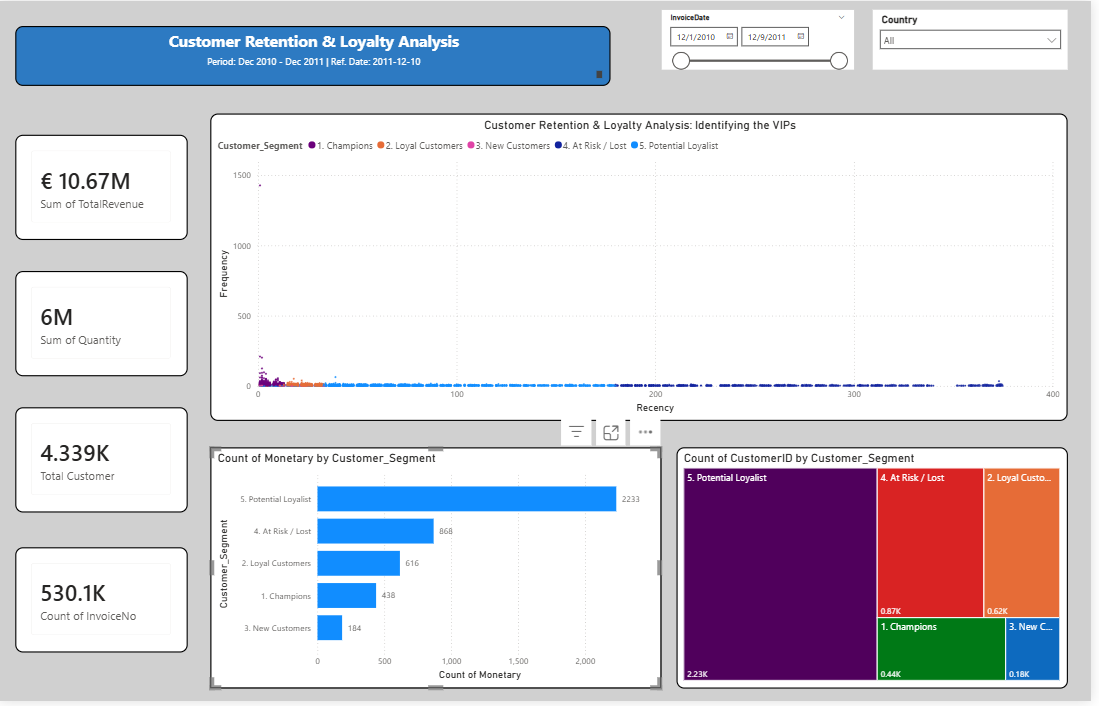

The page's visual inventory and layout, read from the dashboard file:
{"tool":"powerbi","page":{"name":"Page 1","canvas":[1560,1000],"ordinal":0},"visuals":[{"type":"treemap","fields":{"Group":["View_Marketing_RFM_Final.Customer_Segment"],"Values":["CountNonNull(View_Marketing_RFM_Final.CustomerID)"]},"box":[967.9,637.5,558.9,344.6],"z":0},{"type":"scatterChart","title":"Customer Retention & Loyalty Analysis: Identifying the VIPs","fields":{"X":["RFM_Scores.Recency"],"Size":["CountNonNull(RFM_Scores.Monetary)"],"Series":["View_Marketing_RFM_Final.Customer_Segment"],"Y":["RFM_Scores.Frequency"]},"box":[301.8,160.7,1225,439.3],"z":1},{"type":"clusteredBarChart","fields":{"Category":["View_Marketing_RFM_Final.Customer_Segment"],"Y":["CountNonNull(RFM_Scores.Monetary)"]},"box":[301.8,637.5,644.6,344.6],"z":2},{"type":"slicer","fields":{"Values":["Customer_Transaction_Clean.Country"]},"box":[1248.2,12.5,278.6,85.7],"z":3},{"type":"slicer","fields":{"Values":["Customer_Transaction_Clean.InvoiceDate"]},"box":[946.4,12.5,275,85.7],"z":4},{"type":"cardVisual","fields":{"Data":["Sum(Customer_Transaction_Clean.TotalRevenue)"]},"box":[23.2,191.1,246.4,150],"z":6},{"type":"cardVisual","fields":{"Data":["Sum(Customer_Transaction_Clean.Quantity)"]},"box":[23.2,385.7,246.4,150],"z":7},{"type":"cardVisual","fields":{"Data":["Count(Customer_Transaction_Clean.CustomerID)"]},"box":[23.2,580.4,246.4,150],"z":8},{"type":"textbox","title":"Customer Retention & Loyalty Analysis","box":[23.2,35.7,850,85.7],"z":9},{"type":"cardVisual","fields":{"Data":["CountNonNull(Customer_Transaction_Clean.InvoiceNo)"]},"box":[23.2,780.4,246.4,150],"z":10}]}

Visuals, with their boxes in screenshot pixels (x1, y1, x2, y2), scaled from the page's 1560x1000 canvas onto the 1099x706 screenshot:
treemap - View_Marketing_RFM_Final.Customer_Segment x CountNonNull(View_Marketing_RFM_Final.CustomerID): (682,450,1076,693)
"Customer Retention & Loyalty Analysis: Identifying the VIPs" scatterChart: (213,113,1076,424)
clusteredBarChart - View_Marketing_RFM_Final.Customer_Segment x CountNonNull(RFM_Scores.Monetary): (213,450,667,693)
slicer - Customer_Transaction_Clean.Country: (879,9,1076,69)
slicer - Customer_Transaction_Clean.InvoiceDate: (667,9,860,69)
cardVisual - Sum(Customer_Transaction_Clean.TotalRevenue): (16,135,190,241)
cardVisual - Sum(Customer_Transaction_Clean.Quantity): (16,272,190,378)
cardVisual - Count(Customer_Transaction_Clean.CustomerID): (16,410,190,516)
"Customer Retention & Loyalty Analysis" textbox: (16,25,615,86)
cardVisual - CountNonNull(Customer_Transaction_Clean.InvoiceNo): (16,551,190,657)
